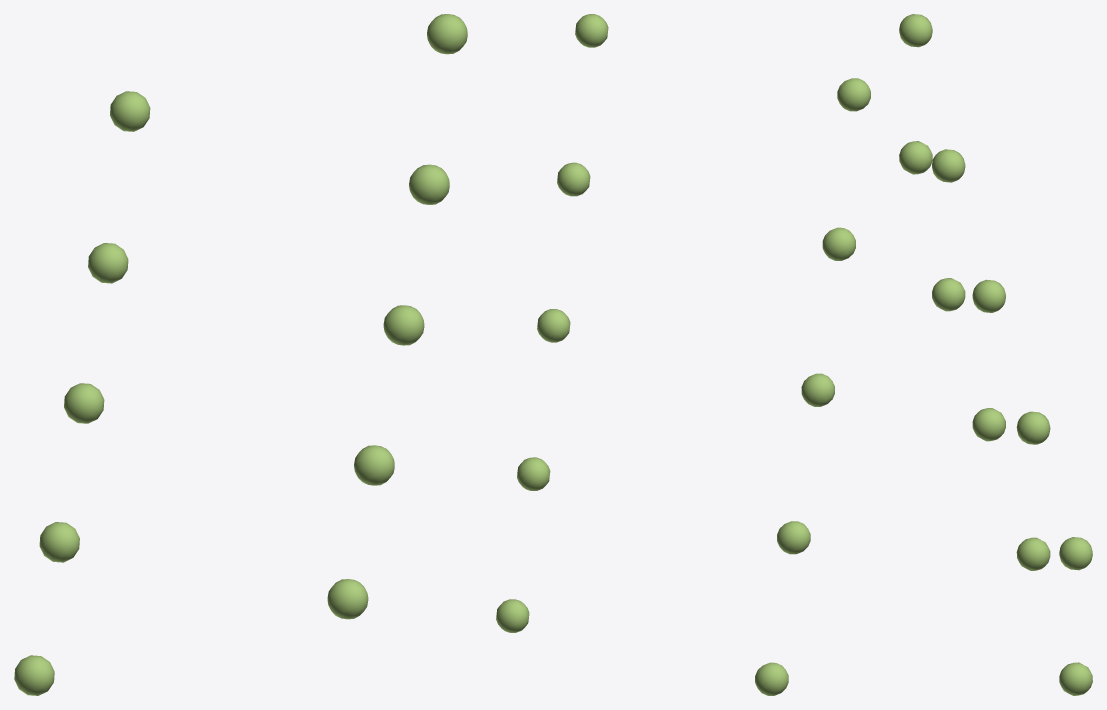
File: paratracheal-thoracic-nodes.glb
The picture shows the model from 3 angles, left to right: view 1: azimuth 30°, elevation 25°; view 2: azimuth 150°, elevation 25°; view 3: azimuth 270°, elevation 25°; orthographic projection. The views are drawn at different scales.
Parts seen in each view (by area): view 1: Paratracheal thoracic nodes; view 2: Paratracheal thoracic nodes; view 3: Paratracheal thoracic nodes.
Part boxes in pixels (x1=…): Paratracheal thoracic nodes: x1=14, y1=14, x2=467, y2=695; Paratracheal thoracic nodes: x1=496, y1=14, x2=870, y2=695; Paratracheal thoracic nodes: x1=899, y1=14, x2=1092, y2=695.
Bounding box in the file's own units: 0.0258 × 0.0466 × 0.0148.
